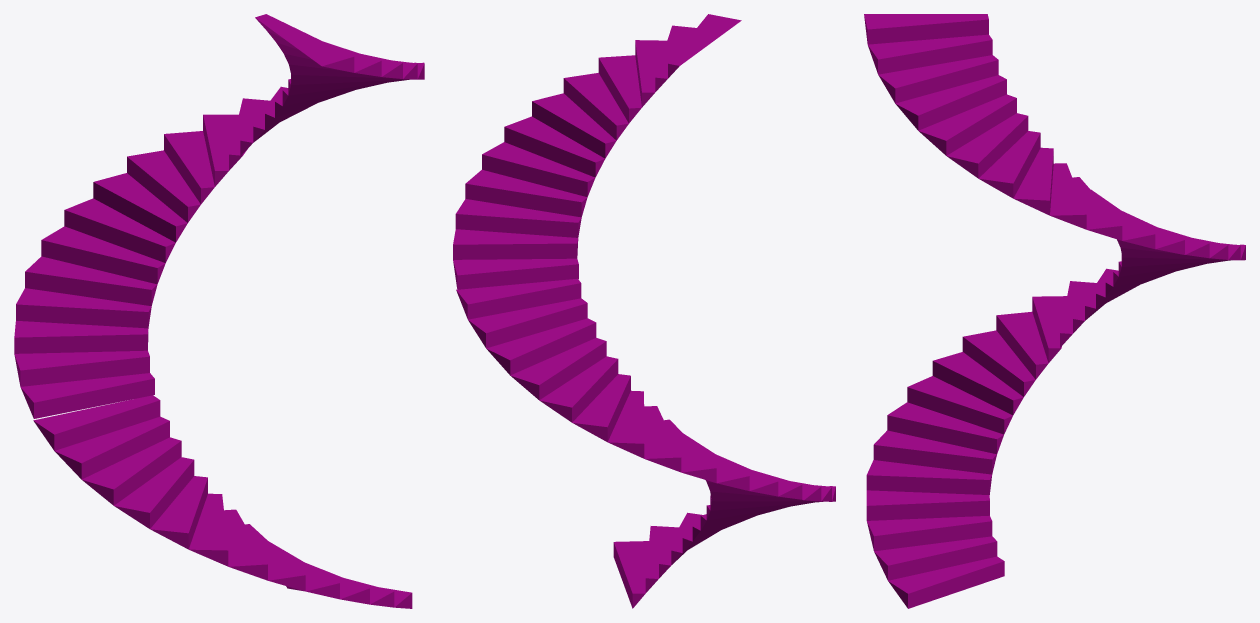
The model's file is Stairs.fbx.
The picture shows the model from 3 angles, left to right: view 1: azimuth 30°, elevation 25°; view 2: azimuth 150°, elevation 25°; view 3: azimuth 270°, elevation 25°; orthographic projection. The views are drawn at different scales.
Visible parts, largest first — view 1: Starirs_3, Starirs_4, Starirs_2; view 2: Starirs_2, Starirs_3, Starirs_4; view 3: Starirs_4, Starirs_2, Starirs_3.
Part boxes in pixels (left/top/right/bottom): Starirs_3: left=14, top=98, right=269, bottom=418; Starirs_4: left=33, top=395, right=412, bottom=608; Starirs_2: left=240, top=14, right=424, bottom=156; Starirs_2: left=453, top=14, right=741, bottom=289; Starirs_3: left=456, top=278, right=802, bottom=499; Starirs_4: left=613, top=480, right=835, bottom=608; Starirs_4: left=866, top=296, right=1066, bottom=608; Starirs_2: left=864, top=14, right=1184, bottom=254; Starirs_3: left=1060, top=227, right=1245, bottom=347.
Size of the model in its own units: 0.0652 by 0.1025 by 0.0653.
